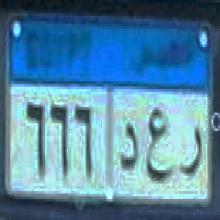6: (47, 96, 70, 178), (26, 97, 45, 180), (74, 99, 94, 177)
ain: (146, 98, 171, 184)
daal: (119, 117, 141, 174)
raa: (178, 117, 204, 189)
